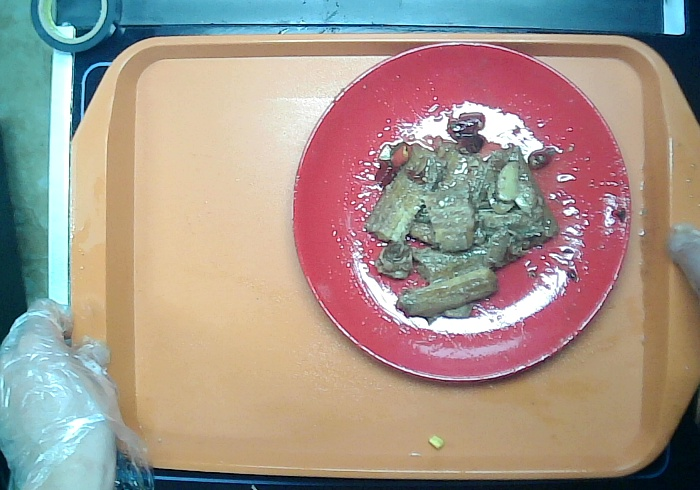HZYJPL-Hong_Se_Yuan_Pan: (290, 39, 633, 384)
